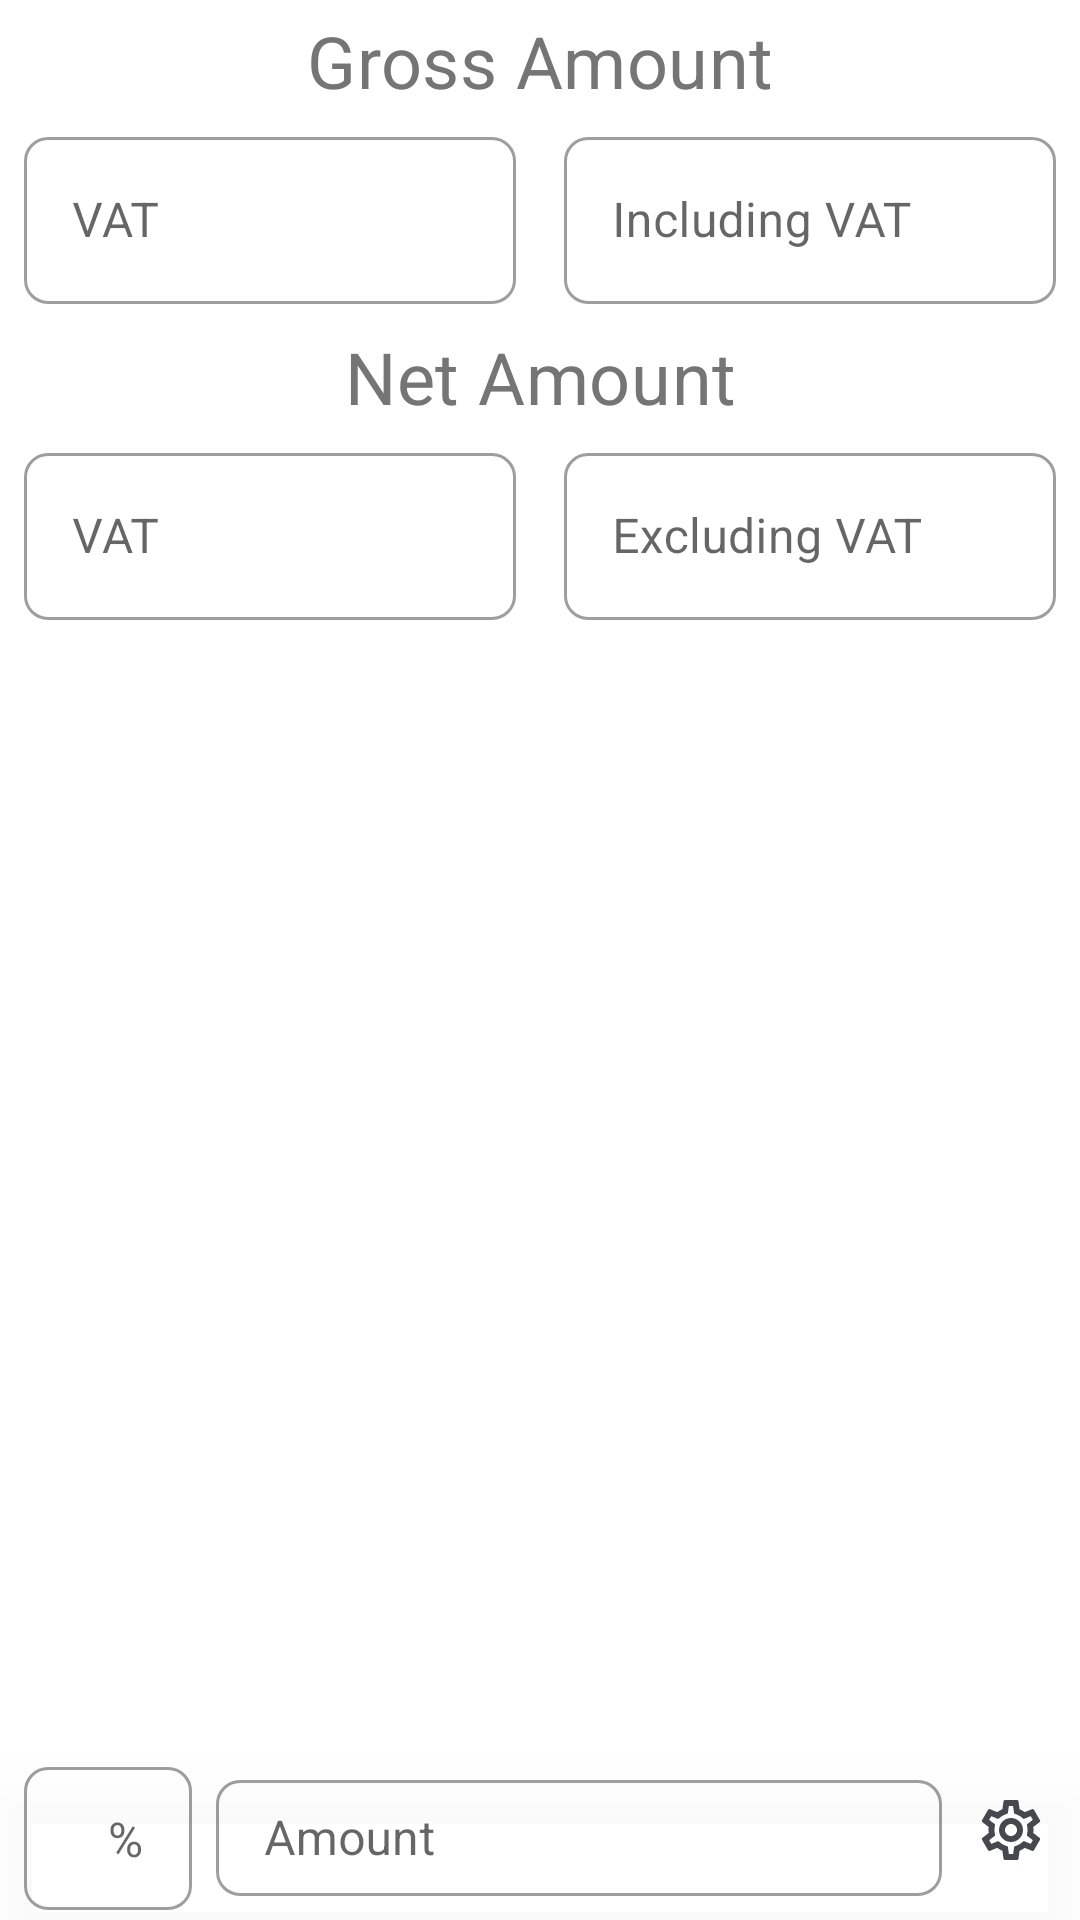

Point at icon controls on the screen. Image size 1080 x 1920, points as (x=x, y=y).
settings: (x=1010, y=1830)
